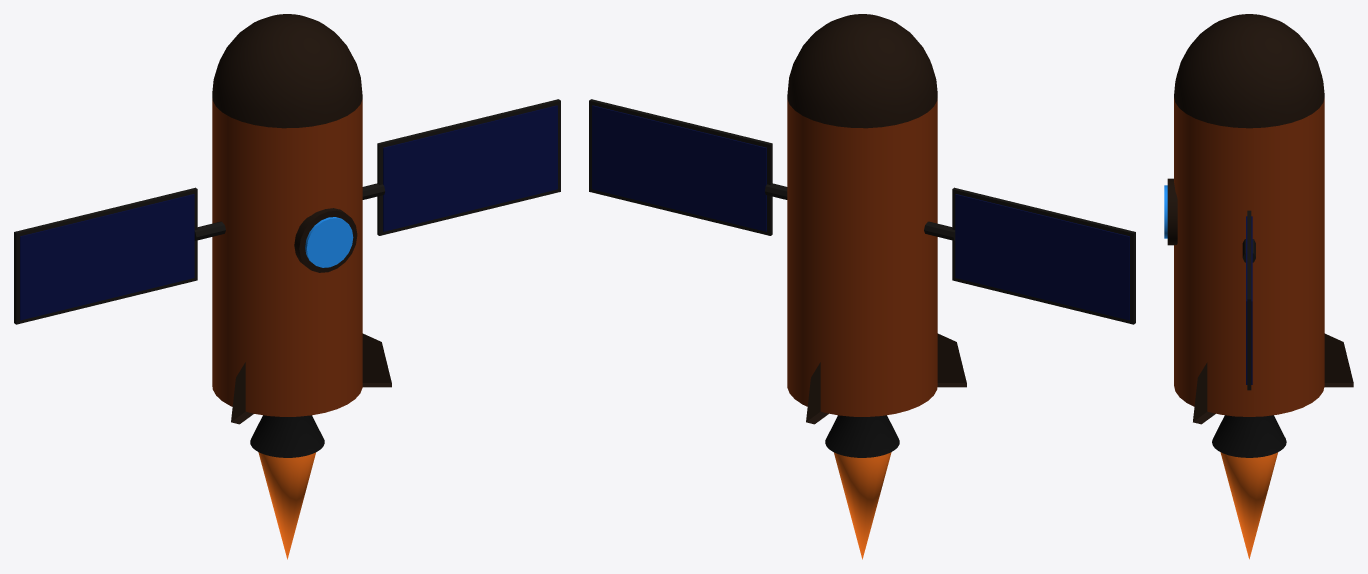
File: Rocket_22_CopperSolar.obj
The picture shows the model from 3 angles, left to right: view 1: azimuth 30°, elevation 25°; view 2: azimuth 150°, elevation 25°; view 3: azimuth 270°, elevation 25°; orthographic projection.
Parts seen in each view (by area): view 1: R22_Body, R22_Panel_2, R22_Panel_1, R22_Nose, R22_Flame_1, R22_PanelFrame_2, R22_Nozzle_1, R22_PanelFrame_1, R22_Window_1, R22_WindowFrame_1, R22_Fin_3, R22_Fin_2; view 2: R22_Body, R22_Panel_2, R22_Panel_1, R22_Nose, R22_Flame_1, R22_PanelFrame_2, R22_Nozzle_1, R22_PanelFrame_1, R22_Fin_2, R22_Fin_1; view 3: R22_Body, R22_Nose, R22_Flame_1, R22_Nozzle_1, R22_Fin_1, R22_PanelFrame_1, R22_Fin_3, R22_WindowFrame_1, R22_Panel_1.
Part boxes in pixels (left/top/right/bottom): R22_Body: left=212, top=98, right=362, bottom=416; R22_Panel_2: left=20, top=194, right=194, bottom=320; R22_Panel_1: left=383, top=105, right=557, bottom=231; R22_Nose: left=212, top=14, right=362, bottom=128; R22_Flame_1: left=258, top=452, right=315, bottom=559; R22_PanelFrame_2: left=14, top=187, right=197, bottom=324; R22_Nozzle_1: left=250, top=415, right=324, bottom=457; R22_PanelFrame_1: left=377, top=99, right=560, bottom=235; R22_Window_1: left=305, top=217, right=353, bottom=267; R22_WindowFrame_1: left=294, top=208, right=357, bottom=272; R22_Fin_3: left=362, top=333, right=391, bottom=387; R22_Fin_2: left=231, top=362, right=253, bottom=424; R22_Body: left=787, top=98, right=937, bottom=416; R22_Panel_2: left=955, top=194, right=1129, bottom=320; R22_Panel_1: left=592, top=105, right=766, bottom=231; R22_Nose: left=787, top=14, right=937, bottom=128; R22_Flame_1: left=834, top=452, right=891, bottom=559; R22_PanelFrame_2: left=952, top=187, right=1135, bottom=324; R22_Nozzle_1: left=825, top=415, right=899, bottom=457; R22_PanelFrame_1: left=589, top=99, right=772, bottom=235; R22_Fin_2: left=937, top=333, right=966, bottom=387; R22_Fin_1: left=806, top=362, right=828, bottom=424; R22_Body: left=1174, top=98, right=1324, bottom=416; R22_Nose: left=1174, top=14, right=1324, bottom=128; R22_Flame_1: left=1220, top=452, right=1278, bottom=559; R22_Nozzle_1: left=1212, top=415, right=1286, bottom=457; R22_Fin_1: left=1324, top=333, right=1353, bottom=387; R22_PanelFrame_1: left=1247, top=210, right=1251, bottom=390; R22_Fin_3: left=1193, top=362, right=1215, bottom=424; R22_WindowFrame_1: left=1167, top=178, right=1177, bottom=245; R22_Panel_1: left=1246, top=216, right=1252, bottom=384.
Bounding box in the file's own units: 7.5 × 7.1 × 2.26.
